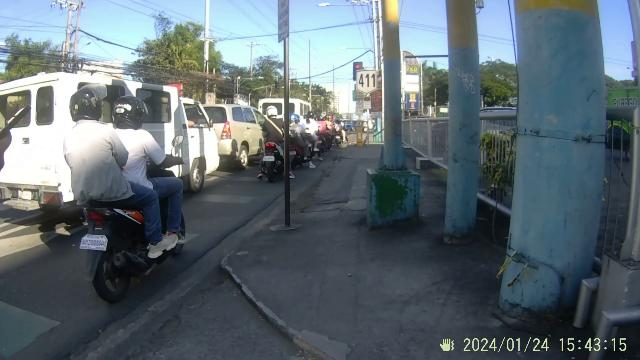street_sign: (272, 0, 296, 232)
utility_post: (362, 0, 422, 229), (440, 0, 484, 240)
